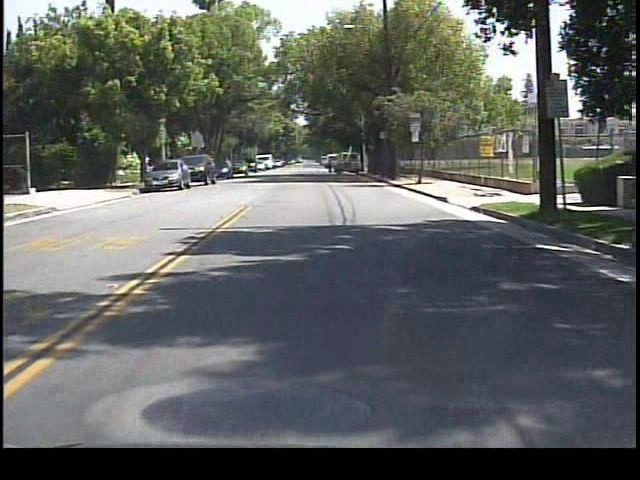person: (322, 153, 338, 179)
